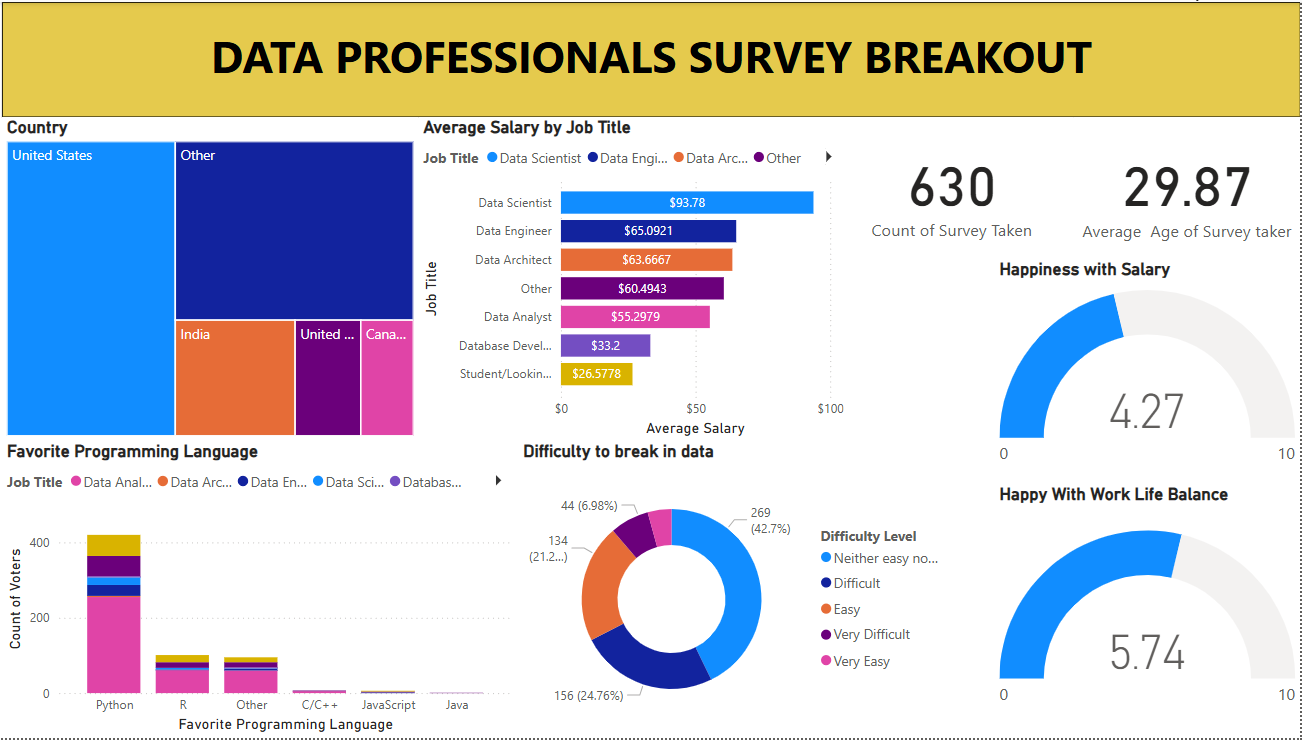

Layout of this report page (visuals, bound fields, positions):
{"tool":"powerbi","page":{"name":"Page 1","canvas":[1280,720],"ordinal":0},"visuals":[{"type":"textbox","box":[9.6,0,1270.7,112.5],"z":0},{"type":"card","fields":{"Values":["Count(Data Professional Survey.Unique ID)"]},"box":[820.6,112.5,237.4,144.1],"z":1000},{"type":"card","fields":{"Values":["Avg(Data Professional Survey.Q10 - Current Age)"]},"box":[1058,112.5,222.3,144.1],"z":2000},{"type":"barChart","title":"Average Salary by Job Title ","fields":{"Category":["Data Professional Survey.Q1 - Which Title Best Fits your Current Role?.1"],"Y":["Avg(Data Professional Survey.Average Salary)"],"Series":["Data Professional Survey.Q1 - Which Title Best Fits your Current Role?.1"]},"box":[417.2,112.5,421.3,317],"z":3000},{"type":"columnChart","title":"Favorite Programming Language","fields":{"Category":["Data Professional Survey.Q5 - Favorite Programming Language.1.1"],"Y":["CountNonNull(Data Professional Survey.Unique ID)"],"Series":["Data Professional Survey.Q1 - Which Title Best Fits your Current Role?.1"]},"box":[9.6,429.5,505,290.9],"z":4000},{"type":"treemap","title":"Country","fields":{"Group":["Data Professional Survey.Q11 - Which Country do you live in?.1"],"Values":["CountNonNull(Data Professional Survey.Q11 - Which Country do you live in?.1)"]},"box":[9.6,112.5,407.5,317],"z":5000},{"type":"gauge","title":"Happy With Work Life Balance","fields":{"Y":["Avg(Data Professional Survey.Q6 - How Happy are you in your Current Position with the following? (Work/Life Balance))"],"MinValue":["Min(Data Professional Survey.Q6 - How Happy are you in your Current Position with the following? (Work/Life Balance))"],"MaxValue":["Max(Data Professional Survey.Q6 - How Happy are you in your Current Position with the following? (Work/Life Balance))"]},"box":[981.1,470.7,299.1,249.7],"z":6000},{"type":"gauge","title":"Happiness with Salary","fields":{"Y":["Avg(Data Professional Survey.Q6 - How Happy are you in your Current Position with the following? (Salary))"],"MinValue":["Min(Data Professional Survey.Q6 - How Happy are you in your Current Position with the following? (Salary))"],"MaxValue":["Max(Data Professional Survey.Q6 - How Happy are you in your Current Position with the following? (Salary))"]},"box":[981.1,251.1,299.1,219.6],"z":7000},{"type":"donutChart","title":"Difficulty to break in data","fields":{"Y":["CountNonNull(Data Professional Survey.Q7 - How difficult was it for you to break into Data?)"],"Category":["Data Professional Survey.Q7 - How difficult was it for you to break into Data?"]},"box":[514.6,429.5,425.4,290.9],"z":8000}]}

Visuals, with their boxes in screenshot pixels (x1, y1, x2, y2), scaled from the page's 1280x720 canvas onto the 1302x743 screenshot:
textbox: [10,0,1301,116]
card - Count(Data Professional Survey.Unique ID): [835,116,1076,265]
card - Avg(Data Professional Survey.Q10 - Current Age): [1076,116,1301,265]
"Average Salary by Job Title " barChart: [424,116,853,443]
"Favorite Programming Language" columnChart: [10,443,523,742]
"Country" treemap: [10,116,424,443]
"Happy With Work Life Balance" gauge: [998,486,1301,742]
"Happiness with Salary" gauge: [998,259,1301,486]
"Difficulty to break in data" donutChart: [523,443,956,742]
